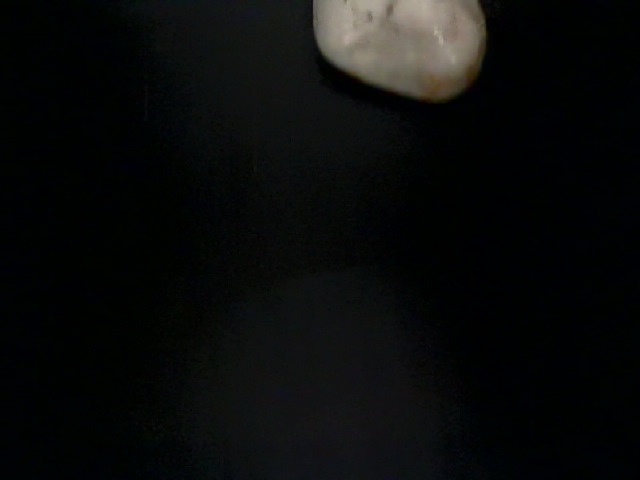QTLJ: (328, 1, 521, 214)
